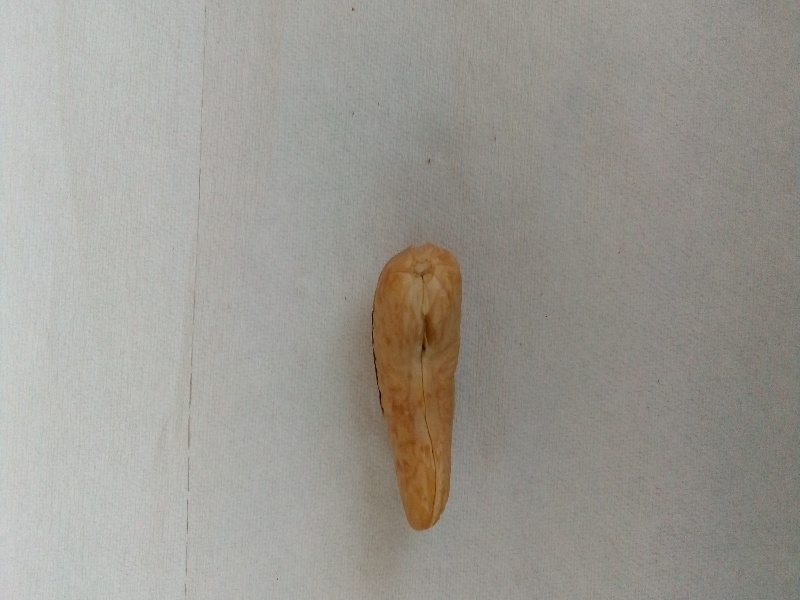cashew: (342, 230, 504, 547)
